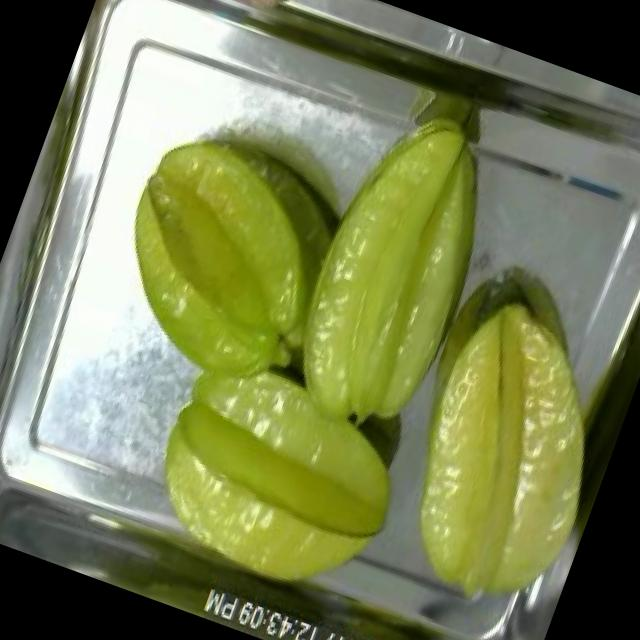fruit: (253, 77, 540, 465), (354, 269, 640, 639), (118, 326, 437, 630), (80, 105, 365, 409), (103, 0, 303, 44)
